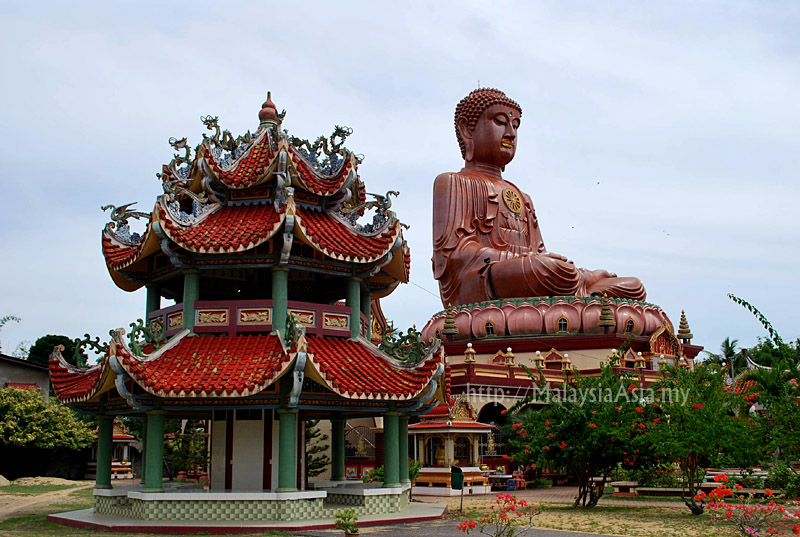Buddhist Temple: (97, 99, 396, 468), (427, 81, 673, 351)
